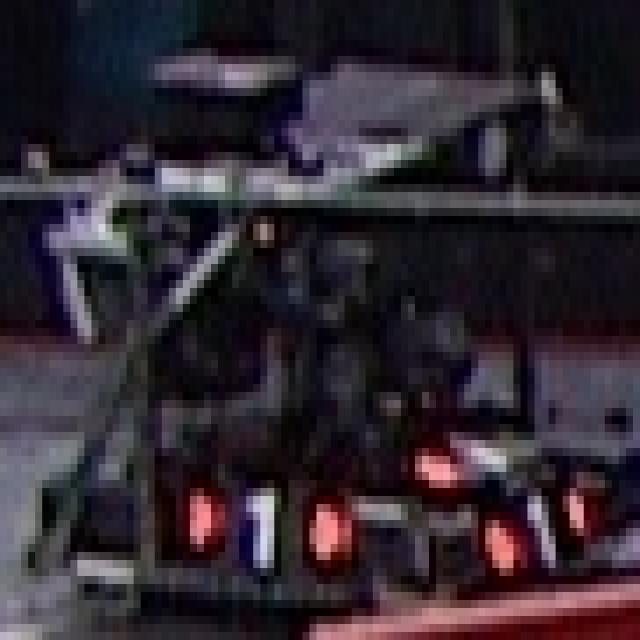R1: (182, 472, 344, 576), (415, 408, 541, 496), (478, 488, 591, 584)
